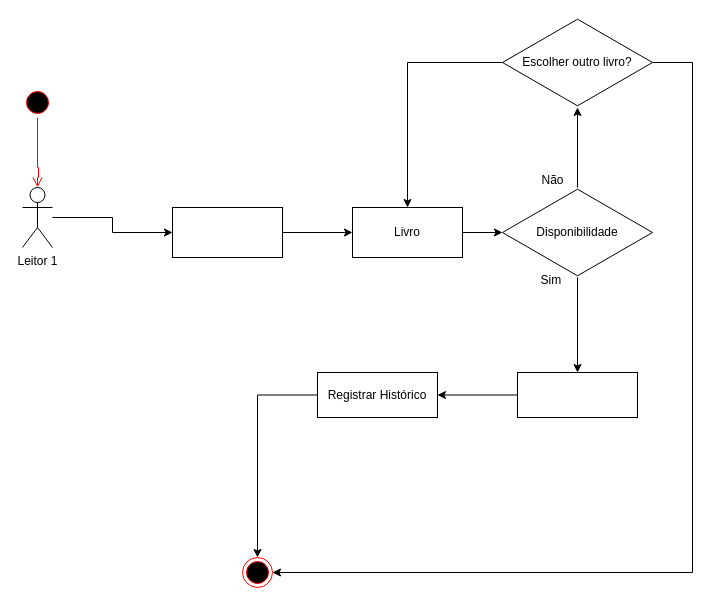
Some shapes in this 718 by 605 pixel diagram are drawn without their labels. Each missing label, with the centre of its shape:
"Empréstimo" goes at [577,395].
"Registrar" goes at [227,232].
